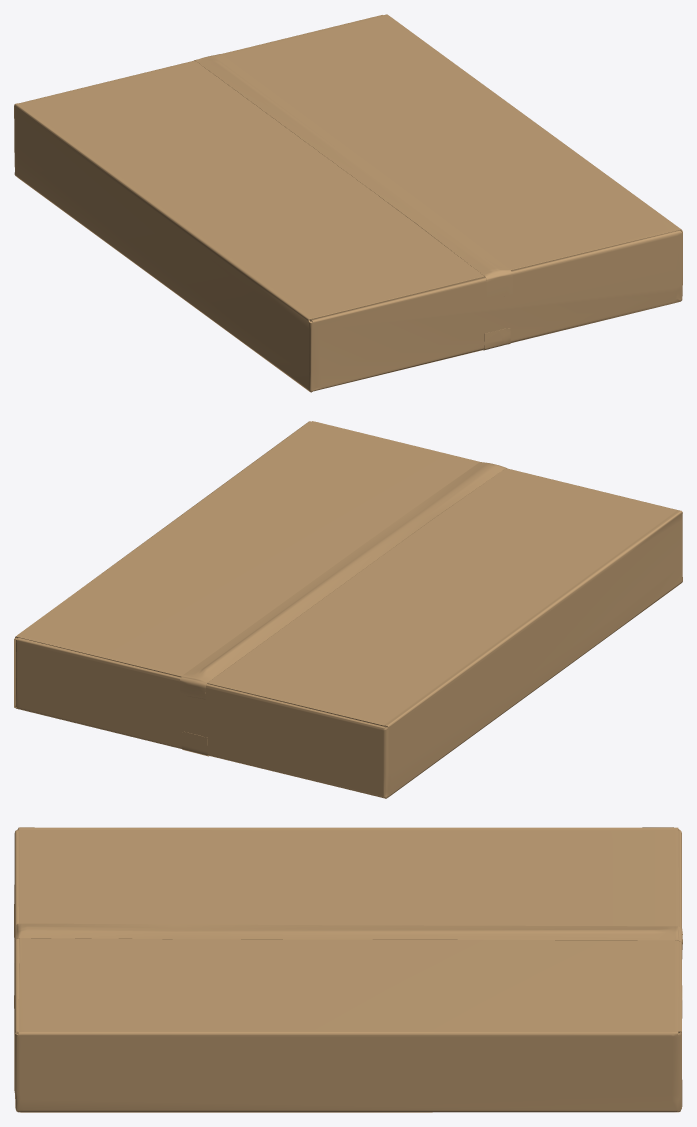
Rendered from box_flat_brown_b14.glb.
The picture shows the model from 3 angles, top to bottom: view 1: azimuth 30°, elevation 25°; view 2: azimuth 150°, elevation 25°; view 3: azimuth 270°, elevation 25°; orthographic projection. The views are drawn at different scales.
Bounding box in the file's own units: 0.4366 × 0.0845 × 0.602.
